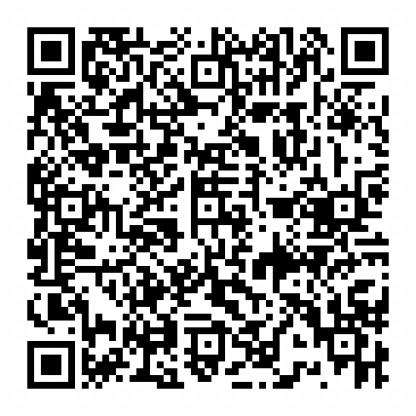qr: (26, 23, 390, 390)
